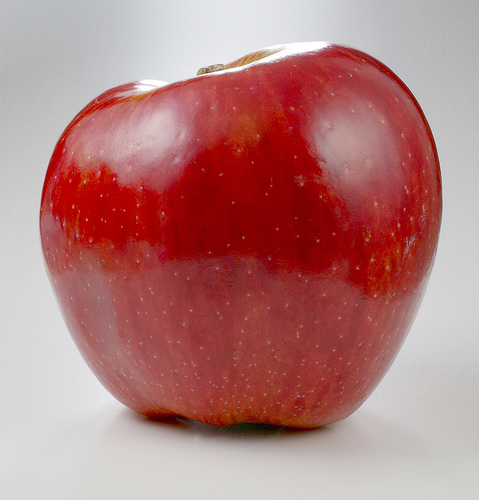apple: (40, 41, 443, 428)
